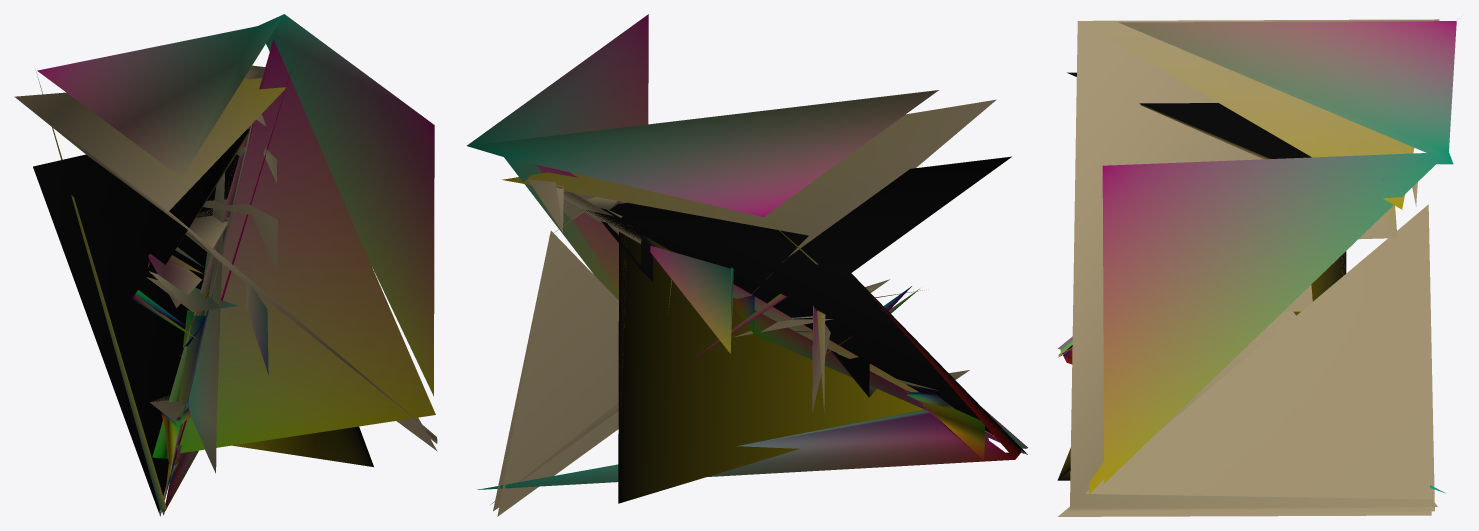
Rendered from eiffel_tower_low_poly.glTF.gltf.
The picture shows the model from 3 angles, left to right: view 1: azimuth 30°, elevation 25°; view 2: azimuth 150°, elevation 25°; view 3: azimuth 270°, elevation 25°; orthographic projection. The views are drawn at different scales.
Size of the model in its own units: 3.56e-43 by 3.69e-43 by 3.66e-43.
